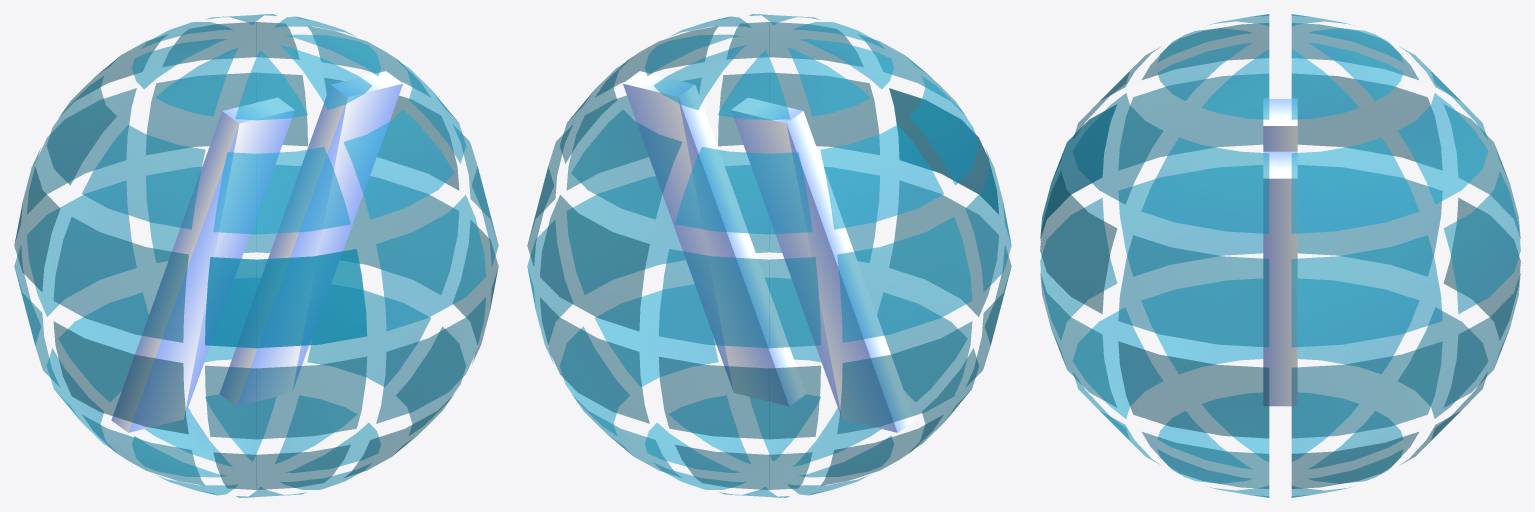
File: FITOKEN.gltf
The picture shows the model from 3 angles, left to right: view 1: azimuth 30°, elevation 25°; view 2: azimuth 150°, elevation 25°; view 3: azimuth 270°, elevation 25°; orthographic projection.
Visible parts, largest first — view 1: Sphere, Buffer Layer 1; view 2: Sphere, Buffer Layer 1; view 3: Sphere, Buffer Layer 1.
Boxes of the visible parts, <box> form: Sphere: <box>14,14,498,497</box>; Buffer Layer 1: <box>111,71,402,432</box>; Sphere: <box>527,14,1011,497</box>; Buffer Layer 1: <box>623,71,914,432</box>; Sphere: <box>1040,14,1520,497</box>; Buffer Layer 1: <box>1263,98,1297,406</box>.
Bounding box in the file's own units: 0.1079 × 0.1079 × 0.1079.
Materials: 2 (2 with a texture image).
